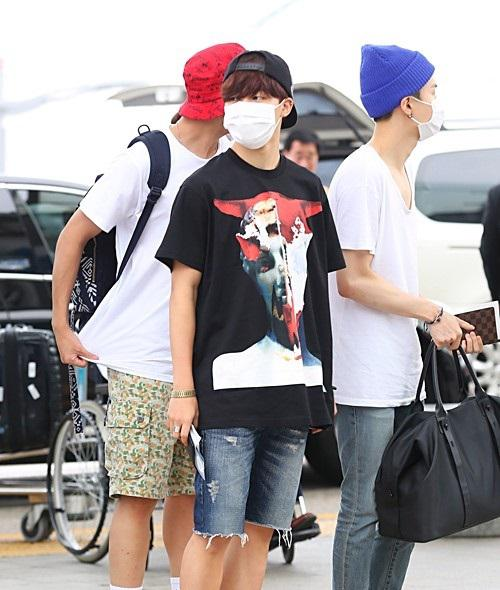NONE: (288, 149, 318, 178)
OK: (225, 81, 291, 147), (384, 84, 444, 144)
